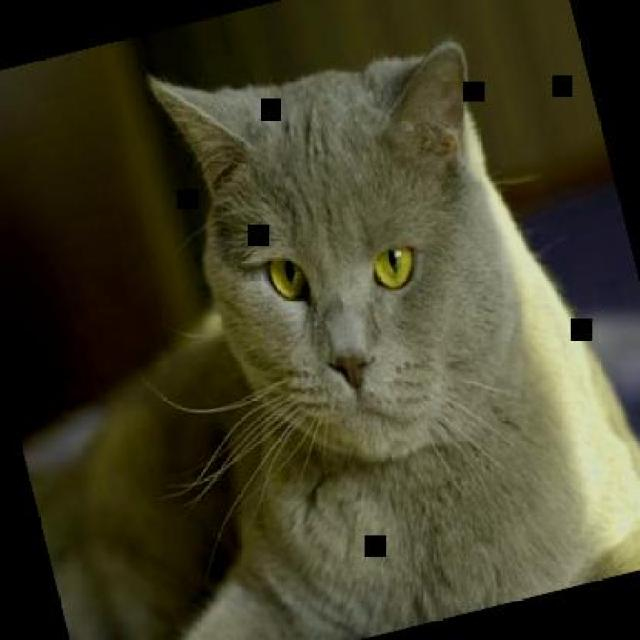cat: (127, 0, 638, 638)
